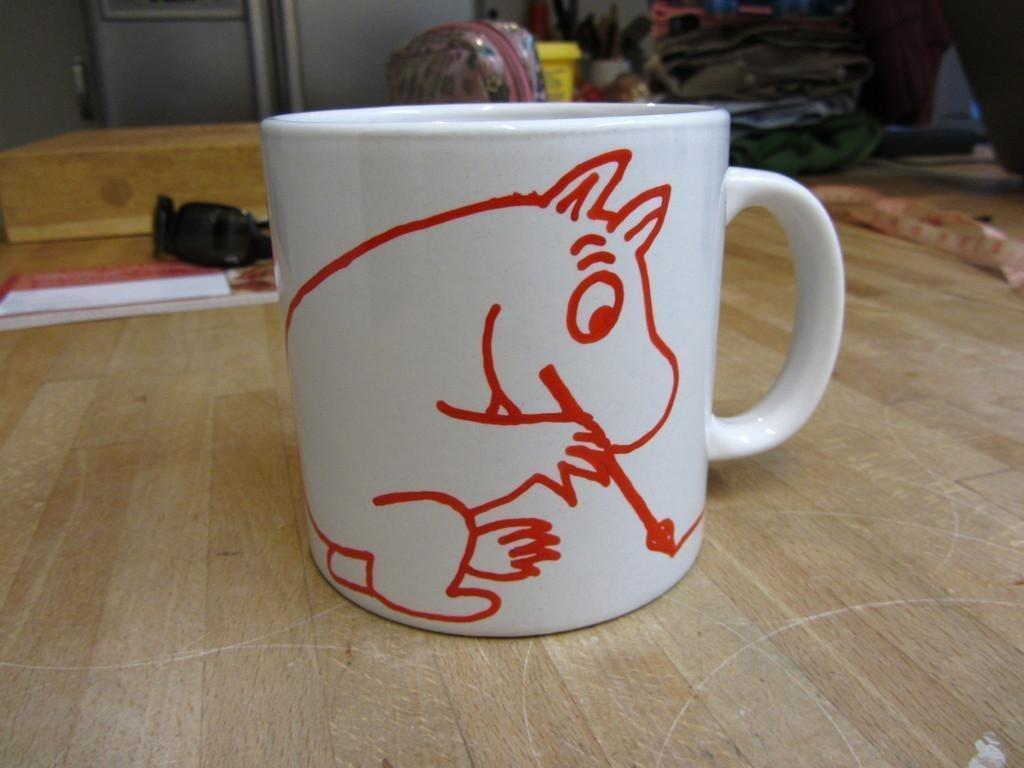cup-handle: (261, 103, 845, 637)
